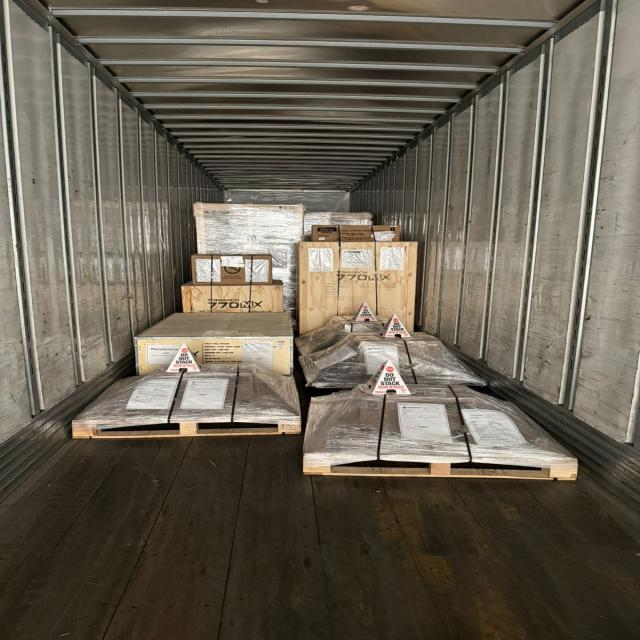15lx: (336, 243, 389, 316)
770b: (298, 225, 419, 333), (321, 226, 338, 230)
encl770: (135, 312, 293, 375)
stnd770: (182, 281, 284, 313)
